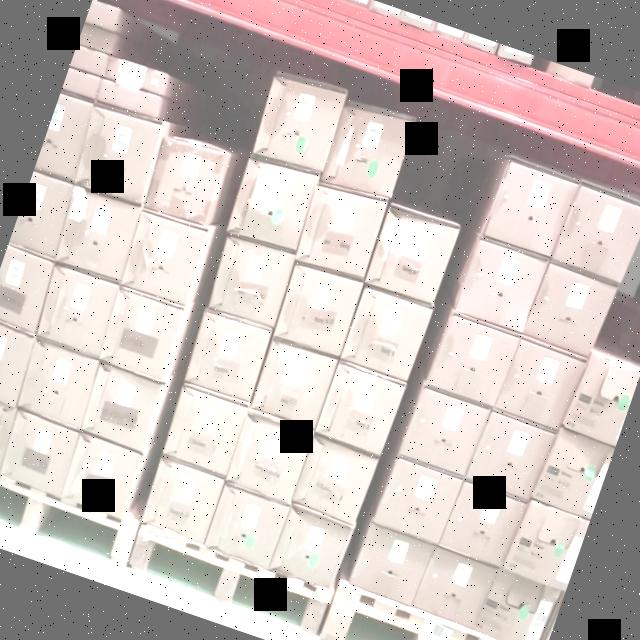box: (452, 237, 548, 342), (480, 159, 576, 262), (366, 204, 461, 308), (525, 262, 616, 363), (72, 111, 168, 206), (158, 382, 252, 479), (552, 183, 640, 286), (318, 104, 412, 200), (248, 78, 343, 172), (293, 189, 386, 283), (341, 287, 432, 383), (495, 339, 584, 436), (274, 266, 363, 362), (226, 160, 315, 255), (314, 364, 404, 456), (226, 411, 314, 505), (248, 339, 336, 432), (208, 240, 298, 330), (96, 290, 186, 380), (78, 362, 168, 452), (185, 314, 272, 406), (143, 134, 230, 224), (432, 316, 518, 407), (36, 264, 121, 354), (292, 436, 376, 526), (122, 214, 205, 303), (53, 194, 140, 278), (14, 341, 100, 425), (402, 388, 487, 472), (471, 413, 555, 498), (350, 522, 432, 609), (0, 407, 81, 495), (142, 457, 225, 542), (61, 436, 146, 517), (377, 457, 460, 539), (444, 483, 524, 568), (266, 511, 349, 592), (207, 484, 288, 565), (416, 546, 494, 627), (475, 571, 559, 640), (94, 78, 164, 121), (108, 59, 166, 94)
